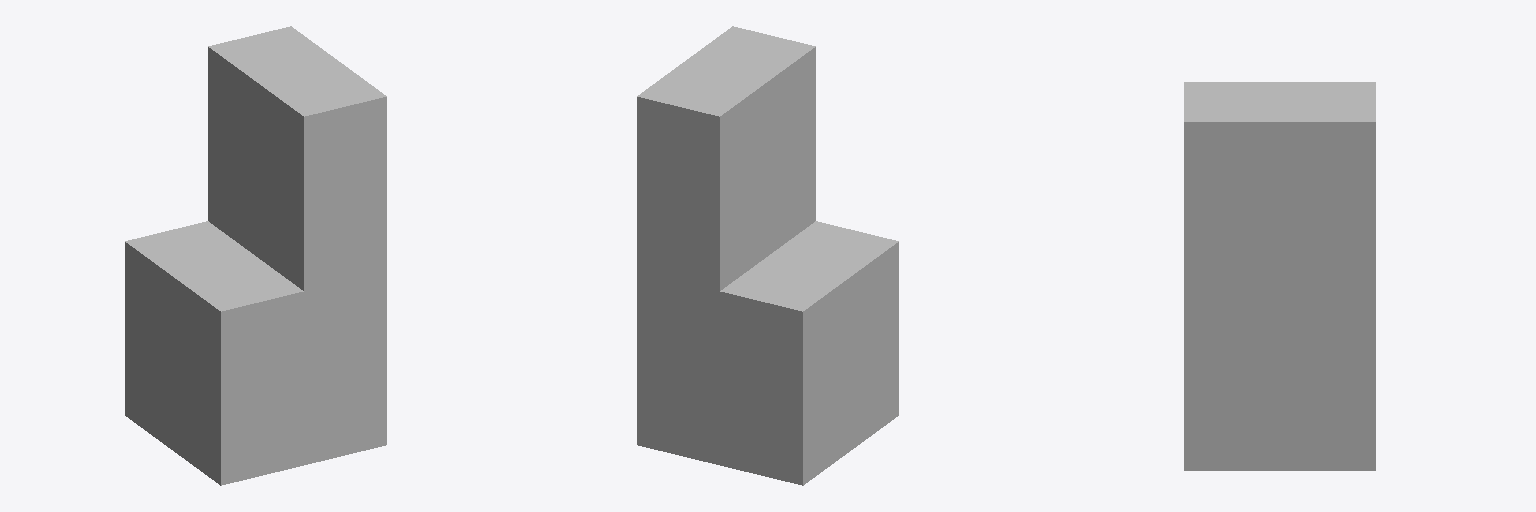
The model's file is stol.obj.
The picture shows the model from 3 angles: view 1: azimuth 30°, elevation 25°; view 2: azimuth 150°, elevation 25°; view 3: azimuth 270°, elevation 25°; orthographic projection.
Visible parts, largest first — view 1: Cube; view 2: Cube; view 3: Cube.
Part boxes in pixels (left/top/right/bottom): Cube: left=125, top=26, right=386, bottom=485; Cube: left=637, top=26, right=898, bottom=485; Cube: left=1184, top=82, right=1375, bottom=470.
Size of the model in its own units: 2 by 4.01 by 2.